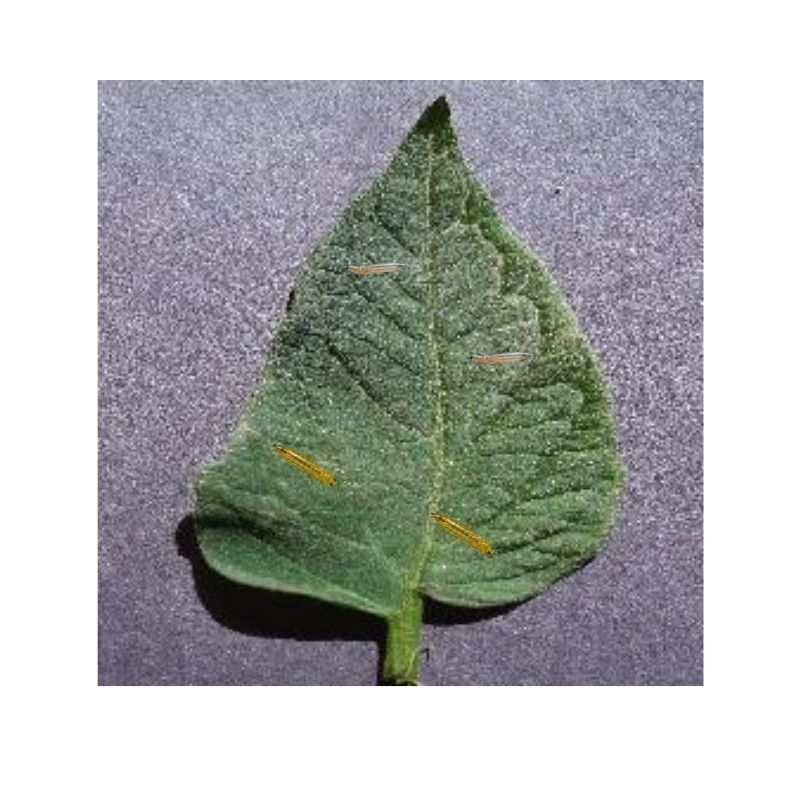thrips: (430, 509, 497, 561), (274, 443, 341, 489), (343, 260, 413, 276), (469, 349, 535, 365)
